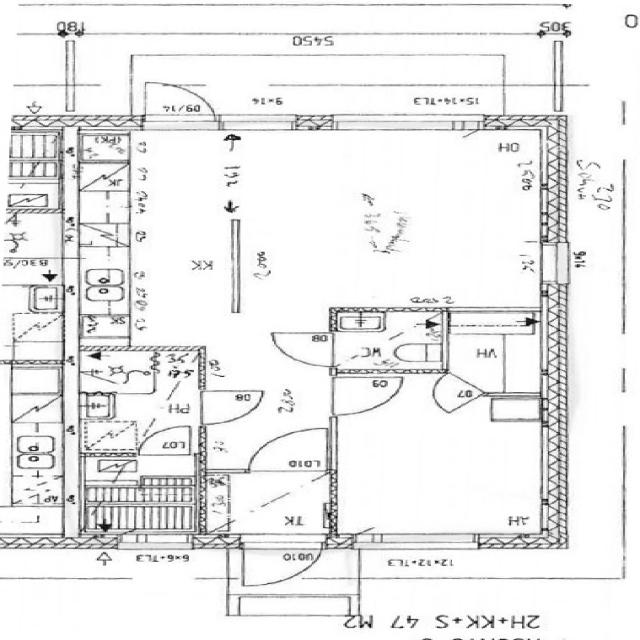door: (236, 538, 330, 590), (134, 80, 224, 128), (249, 424, 334, 474), (326, 373, 404, 417), (264, 328, 344, 370), (194, 386, 266, 428), (8, 310, 65, 352), (137, 424, 198, 456), (430, 376, 484, 411)
window: (530, 233, 569, 280), (58, 254, 78, 288)
zone: (216, 128, 559, 318), (330, 383, 560, 546), (73, 344, 203, 454), (73, 464, 197, 547), (199, 470, 334, 544), (0, 358, 66, 504), (443, 309, 547, 400), (330, 309, 450, 375), (80, 448, 198, 504), (0, 207, 61, 286), (1, 288, 64, 358), (0, 504, 67, 540)
